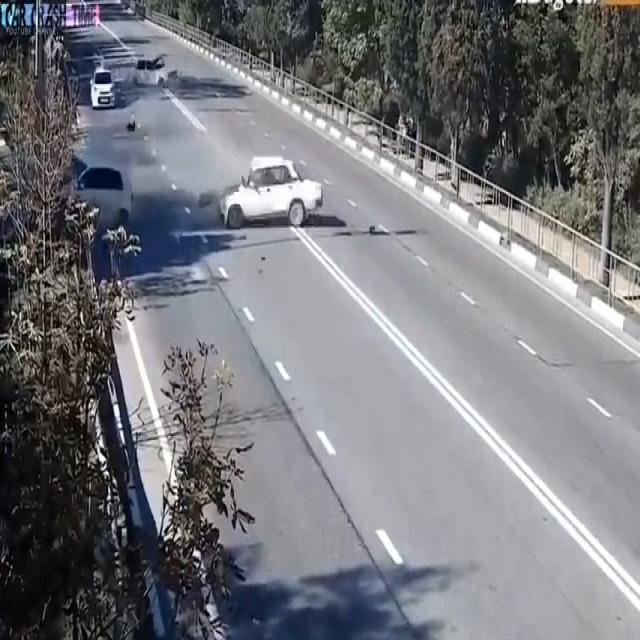Accident: (42, 122, 147, 255), (206, 143, 327, 257)
